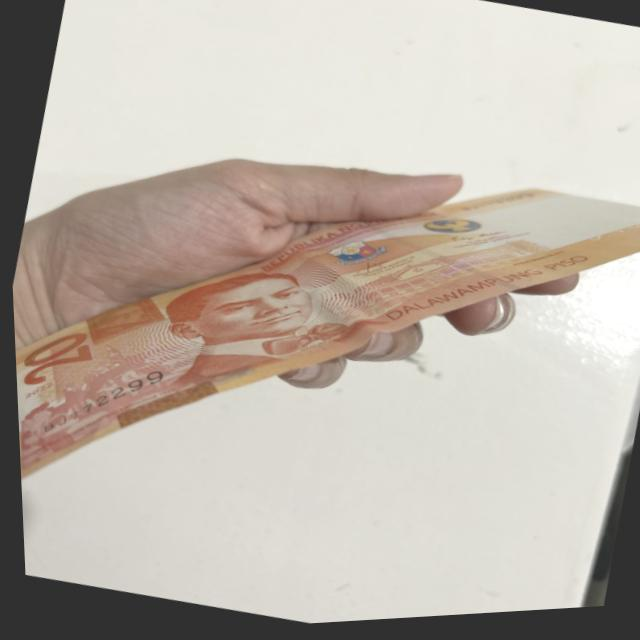concealed_value: (83, 298, 167, 345)
security_thread: (338, 224, 529, 302)
see_through_mark: (570, 217, 640, 252)
serial_number: (31, 364, 166, 436)
value: (12, 325, 91, 396)
